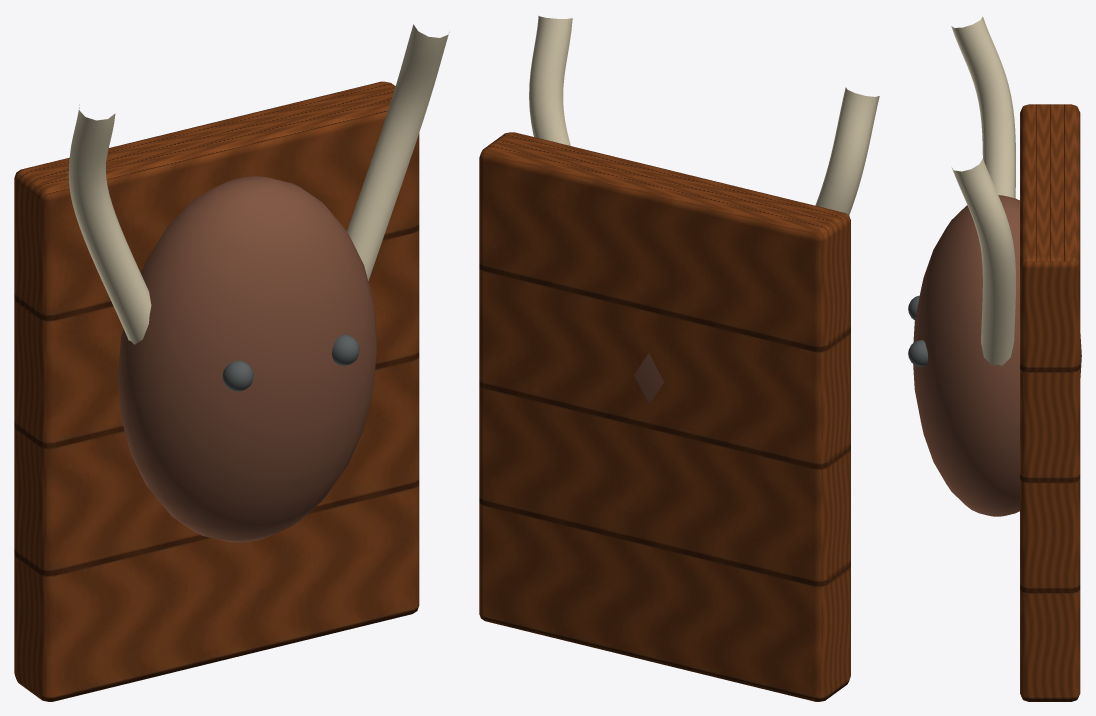
File: adventurers-tavern-and-guild-hall-trophy-head-plaque-275379e7__24744.glb
3 renders of one model, left to right at view 1: azimuth 30°, elevation 25°; view 2: azimuth 150°, elevation 25°; view 3: azimuth 270°, elevation 25°, orthographic. The views are drawn at different scales.
Parts seen in each view (by area): view 1: trophy-head-plaque; view 2: trophy-head-plaque; view 3: trophy-head-plaque.
Boxes of the visible parts, x1,y1,x2,y2 form: trophy-head-plaque: [14, 24, 449, 701]; trophy-head-plaque: [479, 15, 879, 701]; trophy-head-plaque: [908, 16, 1081, 701].
Bounding box in the file's own units: 0.5 × 0.7865 × 0.23.
4 materials, 1 textured.
